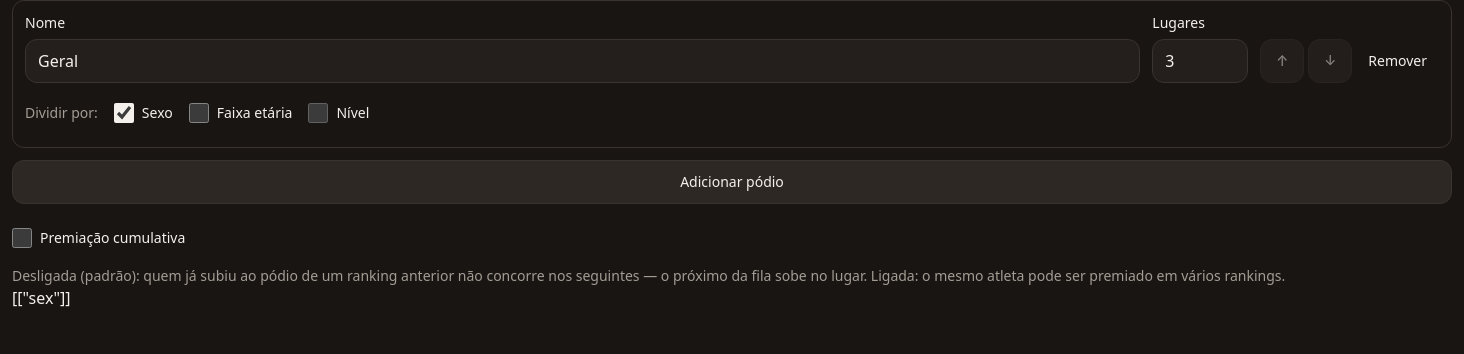
RankingsEditor: overall podium (no division) › unchecking every dimension keeps the podium and says it is the overall one
The image size is (1464, 354).
Click the checkbox with test id "ranking-dim-sex-0": [124, 113] box [114, 103, 134, 123]
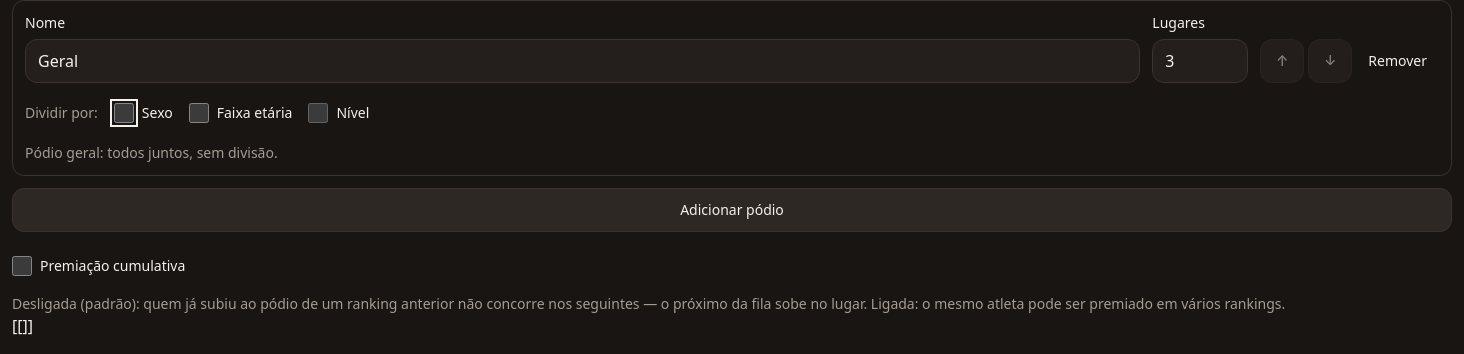
Result: the text with test id "dims" reads "[ []]" at [12, 315, 33, 337]
Result: the text with test id "ranking-overall-0" shows "Pódio geral: todos juntos, sem divisão" at [25, 143, 278, 162]
